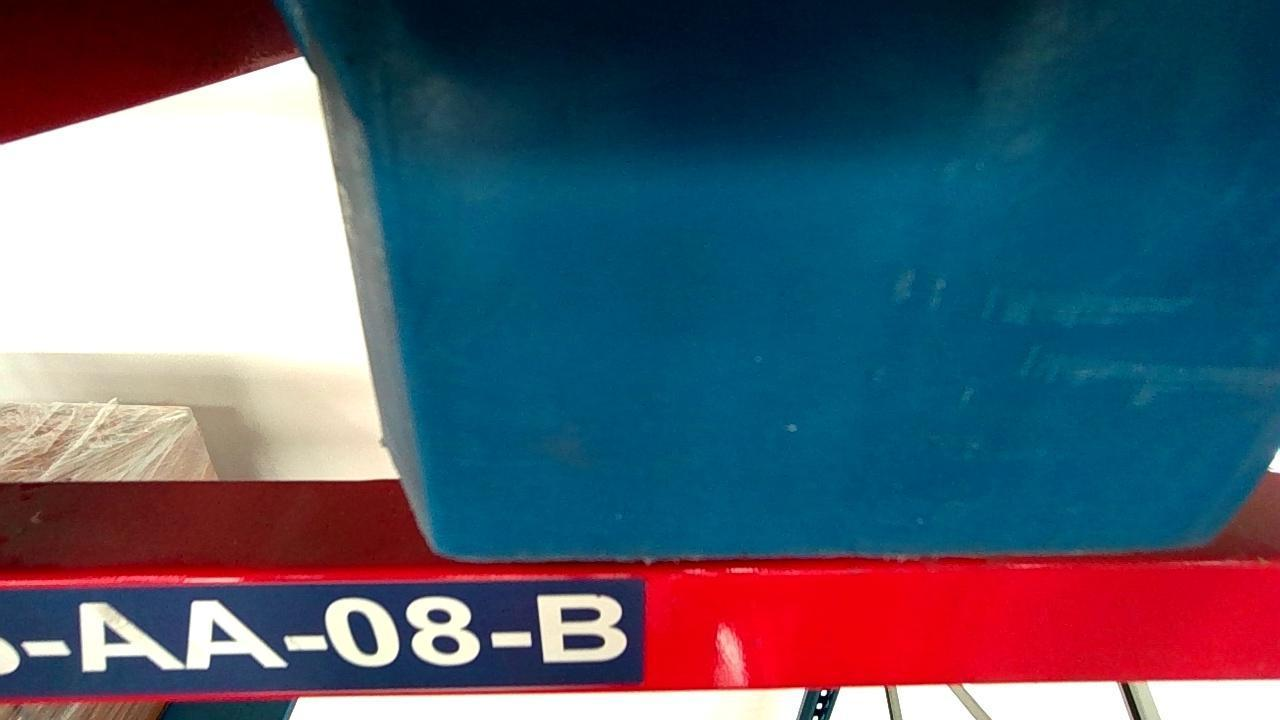h_rack: (1, 561, 1280, 700)
